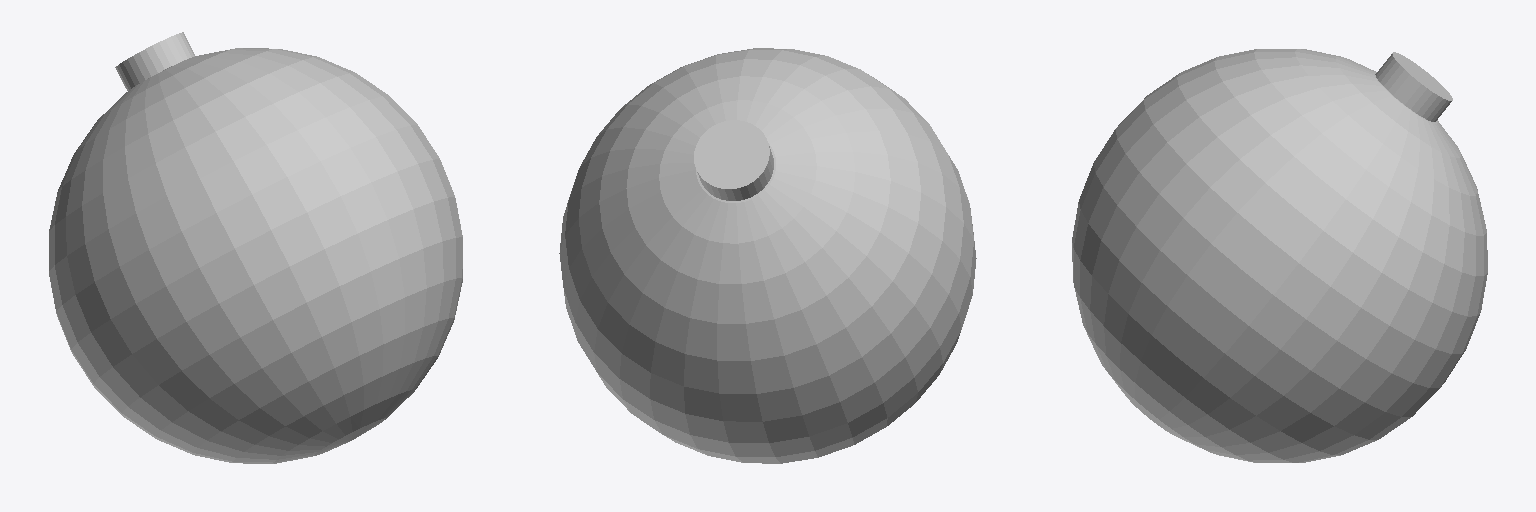
Rendered from Bomb.obj.
3 views of the same model, side by side, from view 1: azimuth 30°, elevation 25°; view 2: azimuth 150°, elevation 25°; view 3: azimuth 270°, elevation 25° (orthographic).
Parts seen in each view (by area): view 1: Sphere; view 2: Sphere; view 3: Sphere.
Boxes of the visible parts, x1=… form: Sphere: x1=49, y1=32, x2=462, y2=463; Sphere: x1=559, y1=48, x2=976, y2=463; Sphere: x1=1072, y1=49, x2=1487, y2=462.
Size of the model in its own units: 2 by 1.99 by 1.99.